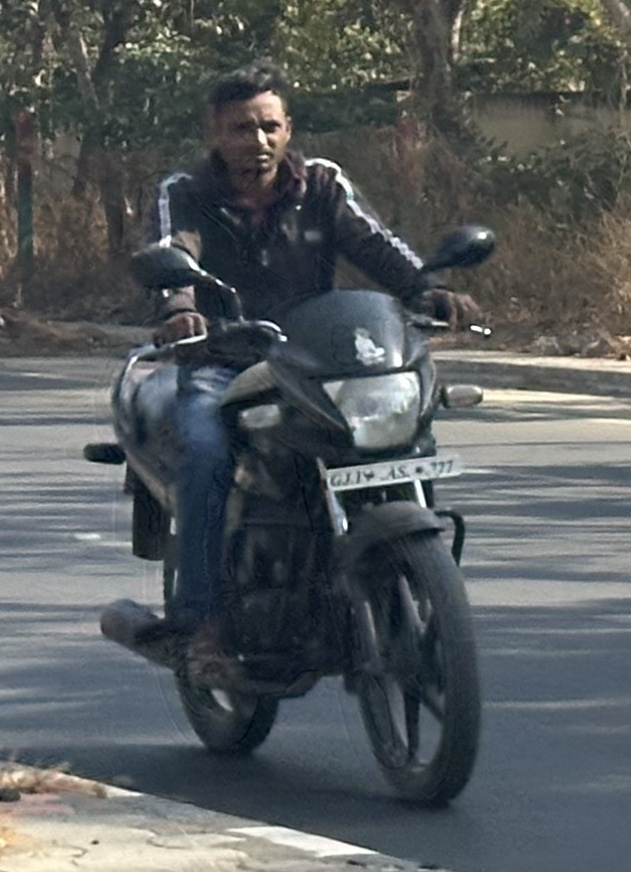BikeWithRider: (70, 57, 511, 819)
NoHelmet: (188, 62, 310, 191)
